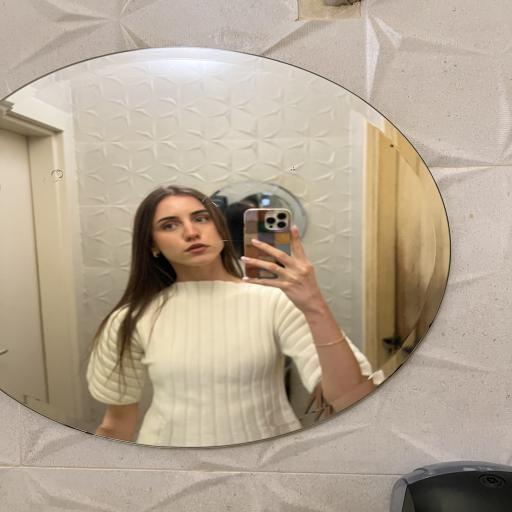masa: (157, 199, 223, 269)
